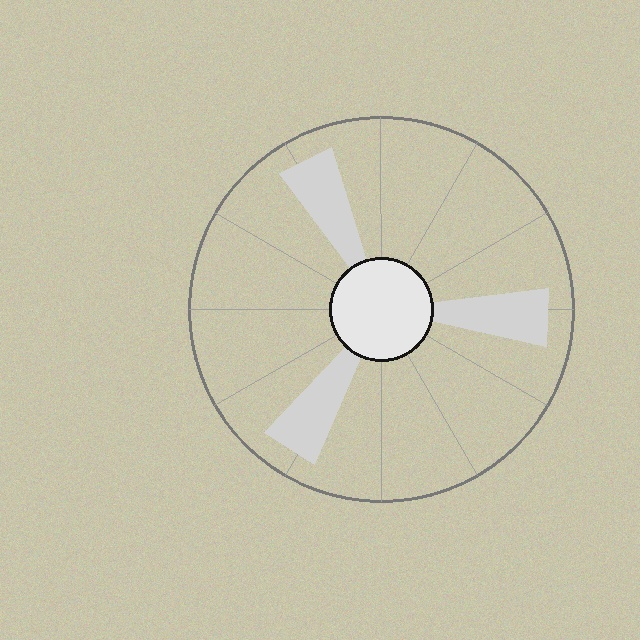fan: (184, 112, 578, 506)
